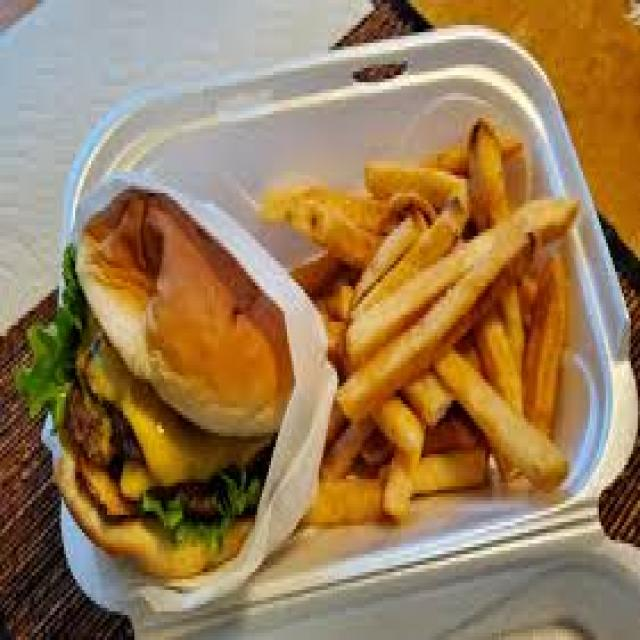Burger: (20, 175, 303, 594)
French Fries: (257, 111, 581, 529)
